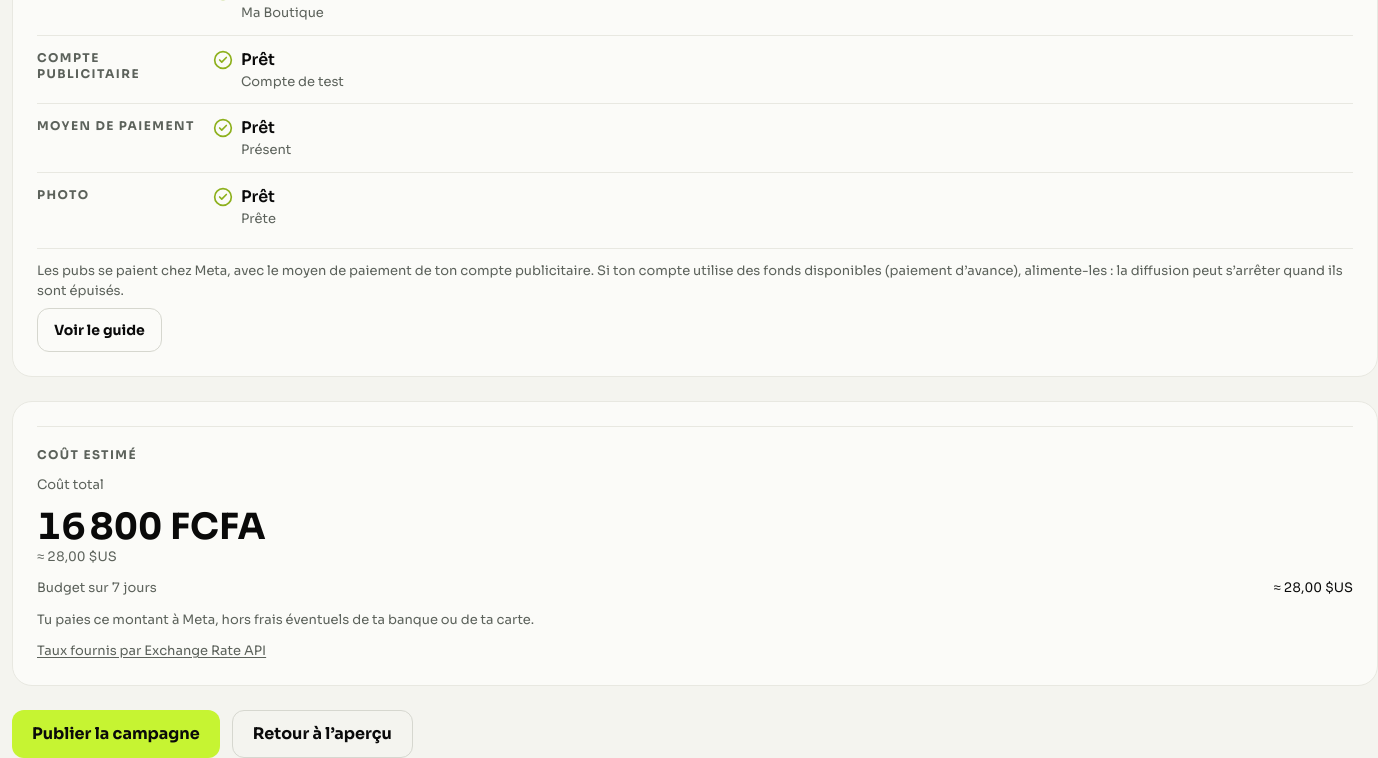
it: Étape Publier — clause de responsabilité et publication › publication en cours : message « en cours », sans bouton Publier ; puis succès quand la campagne arrive chez Meta
The width and height of the screenshot is (1378, 758).
(page scrolled)
Click the button "Publier la campagne" at (116, 734), box [12,710,220,757]
(page scrolled)
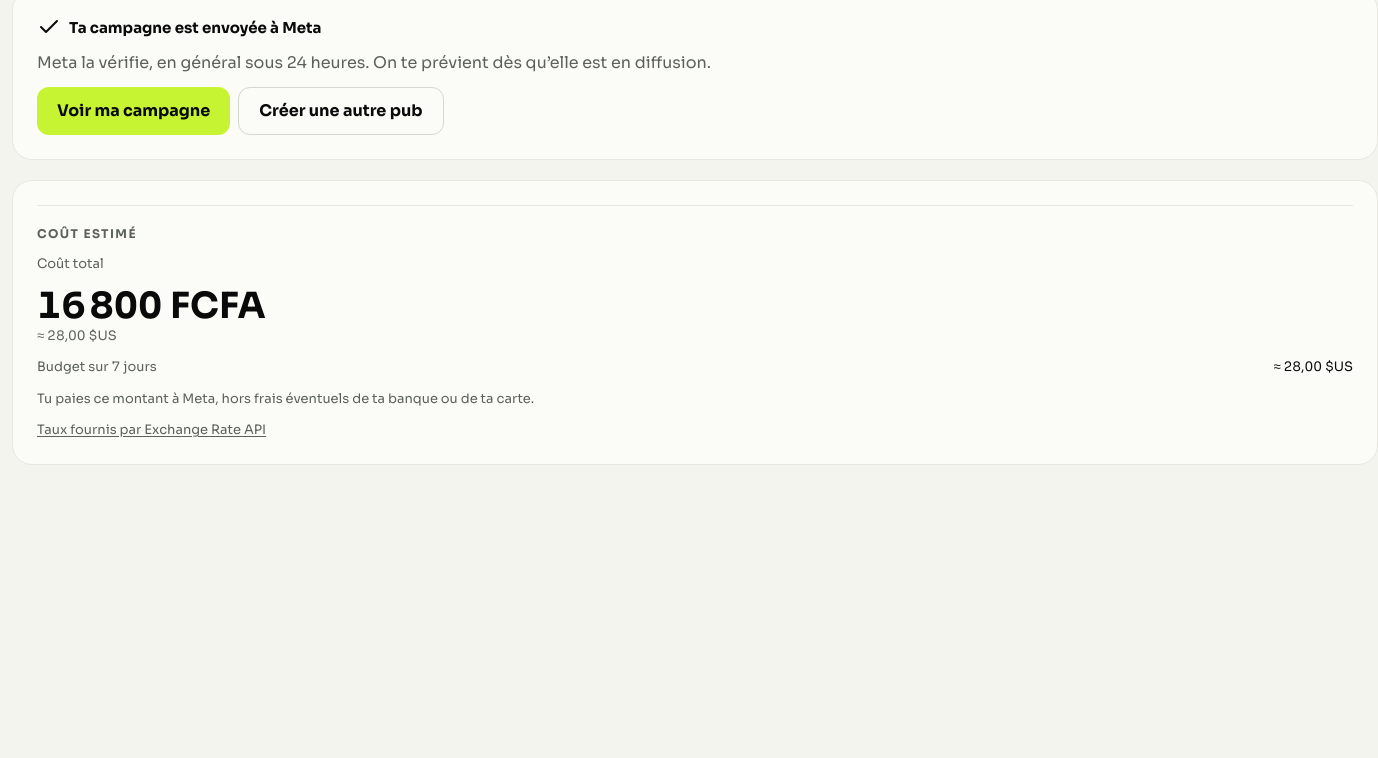
Check: the button "Publier la campagne" is gone
